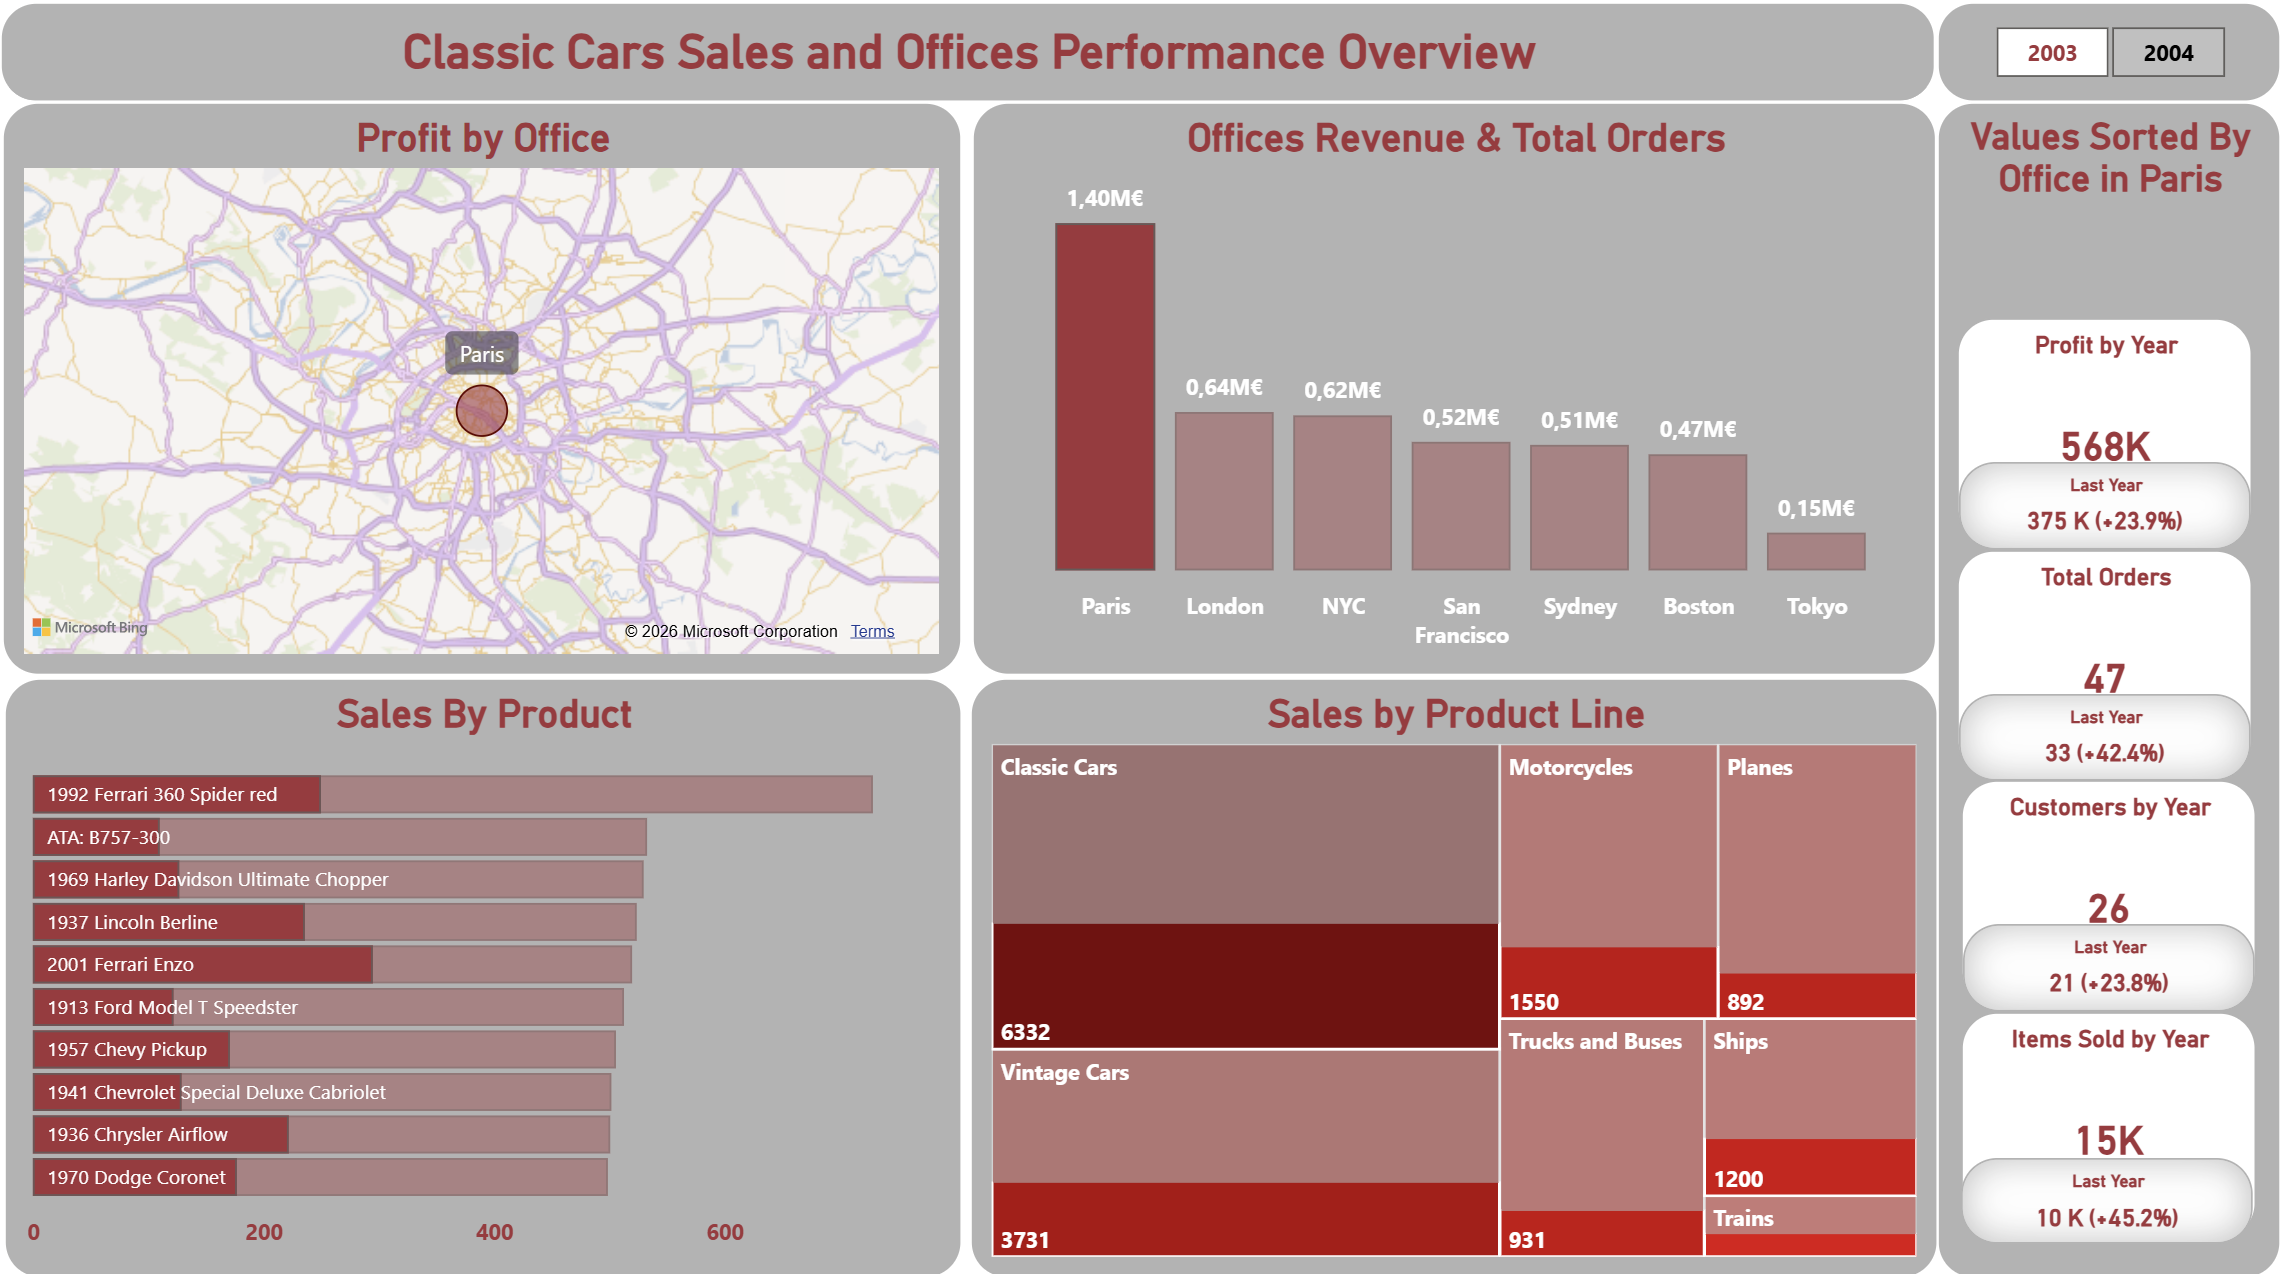

Layout of this report page (visuals, bound fields, positions):
{"tool":"powerbi","page":{"name":"Sales & Offices Performance Overview","canvas":[1280,720],"ordinal":1},"visuals":[{"type":"shape","box":[1078.3,68.6,190.5,651.3],"z":0},{"type":"shape","title":"Classic Cars Sales and Offices Performance Overview","box":[7.2,13.3,1071.1,55.3],"z":1000},{"type":"clusteredColumnChart","title":"Offices Revenue & Total Orders","fields":{"Y":["classicmodels orderdetails.Revenue"],"Category":["classicmodels offices.city"]},"box":[544.3,68.8,533.5,317.3],"z":2000},{"type":"slicer","fields":{"Values":["classicmodels orders.orderDate.Variation.Date Hierarchy.Year"]},"box":[1078.3,13.3,190.5,55.3],"z":3000},{"type":"card","title":"Total Orders","fields":{"Values":["classicmodels orderdetails.total orders count"]},"box":[1089.6,316.2,163.5,126],"z":4000},{"type":"card","title":"Customers by Year","fields":{"Values":["classicmodels orderdetails.Total customers count"]},"box":[1091.8,444.2,163.5,126],"z":5000},{"type":"card","title":"Items Sold by Year","fields":{"Values":["classicmodels orderdetails.Quantity Ordered Shipped Only"]},"box":[1091.8,572.2,163.5,126],"z":6000},{"type":"treemap","title":"Sales by Product Line","fields":{"Group":["classicmodels productlines.productLine"],"Values":["classicmodels orderdetails.Quantity Ordered Shipped Only"]},"box":[543.2,387.2,535.7,332.4],"z":7000},{"type":"clusteredBarChart","title":"Sales By Product","fields":{"Category":["classicmodels products.productName"],"Y":["classicmodels orderdetails.Quantity Ordered Shipped Only"]},"box":[8.6,387.2,530.3,332.4],"z":8000},{"type":"map","title":"Profit by Office","fields":{"Category":["classicmodels offices.city"],"Size":["classicmodels orderdetails.Profit"]},"box":[7.5,68.8,531.4,317.3],"z":9000},{"type":"card","title":"Profit by Year","fields":{"Values":["classicmodels orderdetails.Profit Display"]},"box":[1089.6,188.2,163.5,126],"z":9002},{"type":"card","title":"Last Year","fields":{"Values":["classicmodels orderdetails.Total Orders Last Year Display"]},"box":[1091,396,161.3,48],"z":9003},{"type":"card","title":"Last Year","fields":{"Values":["classicmodels orderdetails.Total Customers Last Year Display"]},"box":[1092.8,523.8,161.3,48.4],"z":9004},{"type":"card","title":"Last Year","fields":{"Values":["classicmodels orderdetails.Quantity Ordered Last Year Display"]},"box":[1091.8,652.9,161.3,47.3],"z":9005},{"type":"card","title":"Last Year","fields":{"Values":["classicmodels orderdetails.Profit Last Year Display 2nd Dash"]},"box":[1090.7,267.8,161.3,48.4],"z":9006}]}

Visuals, with their boxes in screenshot pixels (x1, y1, x2, y2), scaled from the page's 1280x720 canvas onto the 2282x1274 screenshot:
shape: [1922, 121, 2262, 1273]
"Classic Cars Sales and Offices Performance Overview" shape: [13, 24, 1922, 121]
"Offices Revenue & Total Orders" clusteredColumnChart: [970, 122, 1922, 683]
slicer - classicmodels orders.orderDate.Variation.Date Hierarchy.Year: [1922, 24, 2262, 121]
"Total Orders" card: [1943, 559, 2234, 782]
"Customers by Year" card: [1946, 786, 2238, 1009]
"Items Sold by Year" card: [1946, 1012, 2238, 1235]
"Sales by Product Line" treemap: [968, 685, 1923, 1273]
"Sales By Product" clusteredBarChart: [15, 685, 961, 1273]
"Profit by Office" map: [13, 122, 961, 683]
"Profit by Year" card: [1943, 333, 2234, 556]
"Last Year" card: [1945, 701, 2233, 786]
"Last Year" card: [1948, 927, 2236, 1012]
"Last Year" card: [1946, 1155, 2234, 1239]
"Last Year" card: [1945, 474, 2232, 559]
